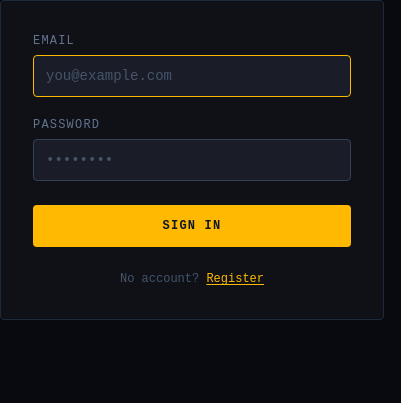
Test: LoginForm › shows generic error message when error has no message
Type "a@b.com" into the field with placeholder "you@example.com".
click(192, 76); type("a@b.com")  # box [33,55,351,97]
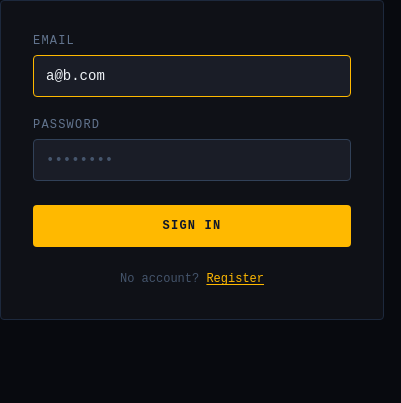
Type "pass" into the password field with placeholder "••••••••".
click(192, 160); type("pass")  # box [33,139,351,181]
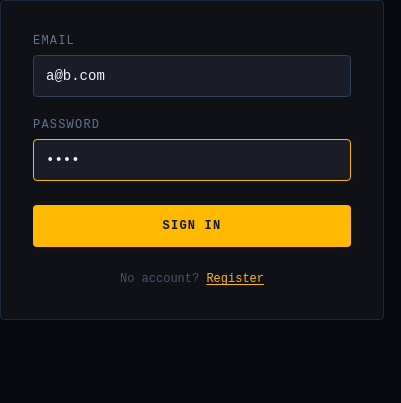
Click the button "Sign in".
click(192, 226)  # box [33,205,351,247]
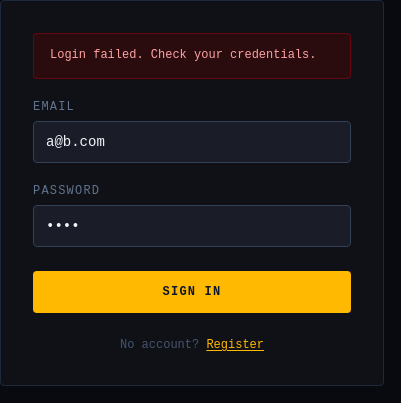
Expected: the text "Login failed. Check your credentials." is shown, [33,33,351,78]
